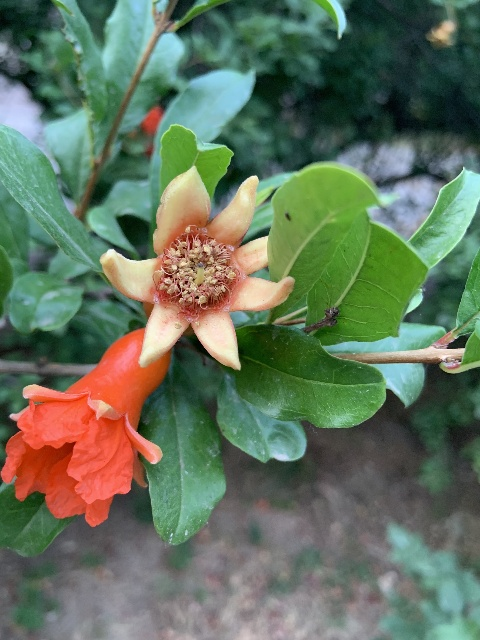early-fruit: (98, 165, 297, 369)
flower: (0, 326, 171, 528)
